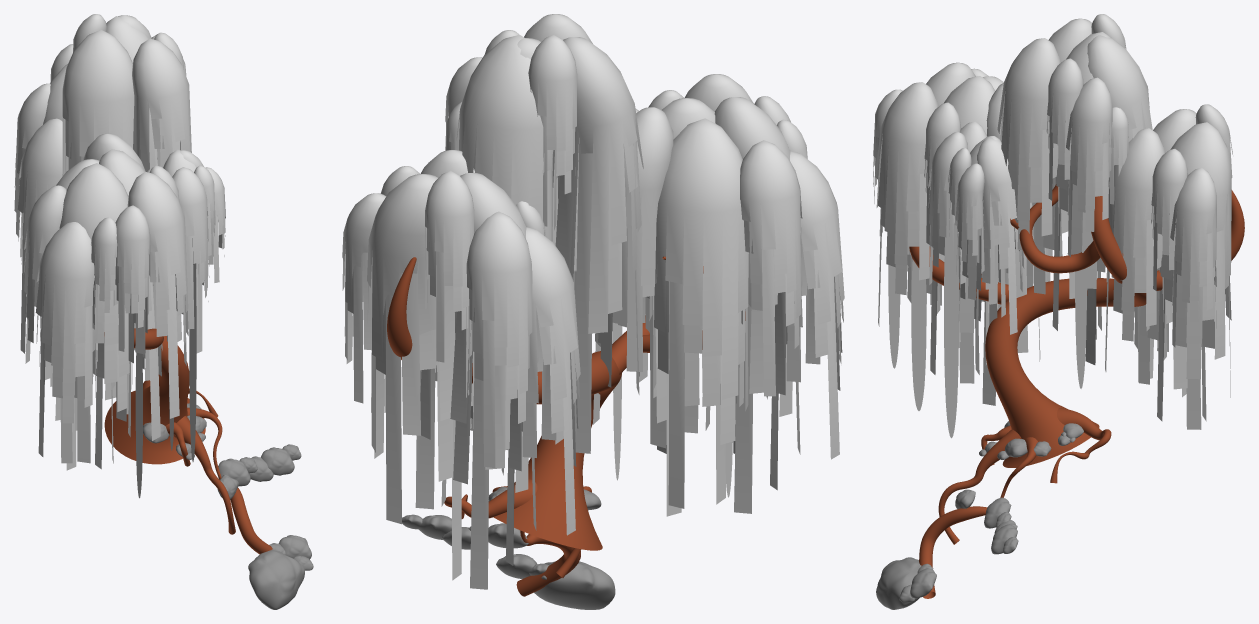
File: Main Island5.fbx
3 renders of one model, left to right at view 1: azimuth 30°, elevation 25°; view 2: azimuth 150°, elevation 25°; view 3: azimuth 270°, elevation 25°, orthographic. The views are drawn at different scales.
Parts seen in each view (by area): view 1: Circle.114, NurbsPath, Cube.016, Plane.005; view 2: Circle.114, NurbsPath, Cube.016, Plane.005; view 3: Circle.114, NurbsPath, Plane.005, Cube.016.
Part boxes in pixels (x1=…): Circle.114: x1=14, y1=14, x2=225, y2=470; NurbsPath: x1=104, y1=328, x2=272, y2=554; Cube.016: x1=143, y1=403, x2=313, y2=609; Plane.005: x1=135, y1=238, x2=196, y2=498; Circle.114: x1=342, y1=14, x2=844, y2=589; NurbsPath: x1=387, y1=256, x2=745, y2=596; Cube.016: x1=402, y1=487, x2=615, y2=609; Plane.005: x1=612, y1=322, x2=732, y2=497; Circle.114: x1=873, y1=14, x2=1232, y2=429; NurbsPath: x1=909, y1=184, x2=1244, y2=598; Plane.005: x1=888, y1=223, x2=1086, y2=438; Cube.016: x1=876, y1=421, x2=1083, y2=609.
Size of the model in its own units: 1.6 by 2.74 by 1.68.
